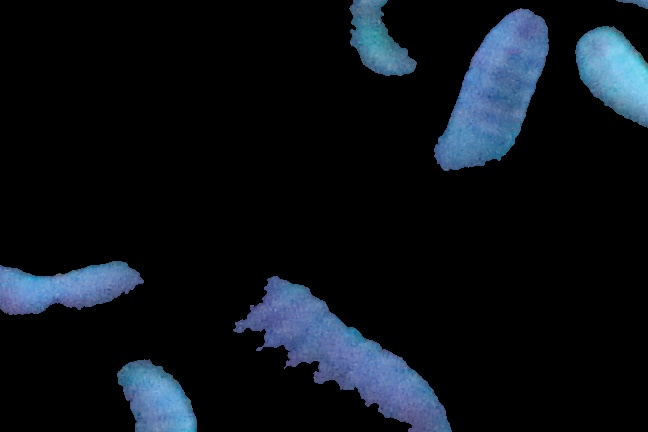larvae: (236, 265, 460, 432), (437, 11, 549, 175), (1, 259, 150, 338), (108, 350, 218, 432), (567, 25, 648, 133), (347, 1, 424, 76)
